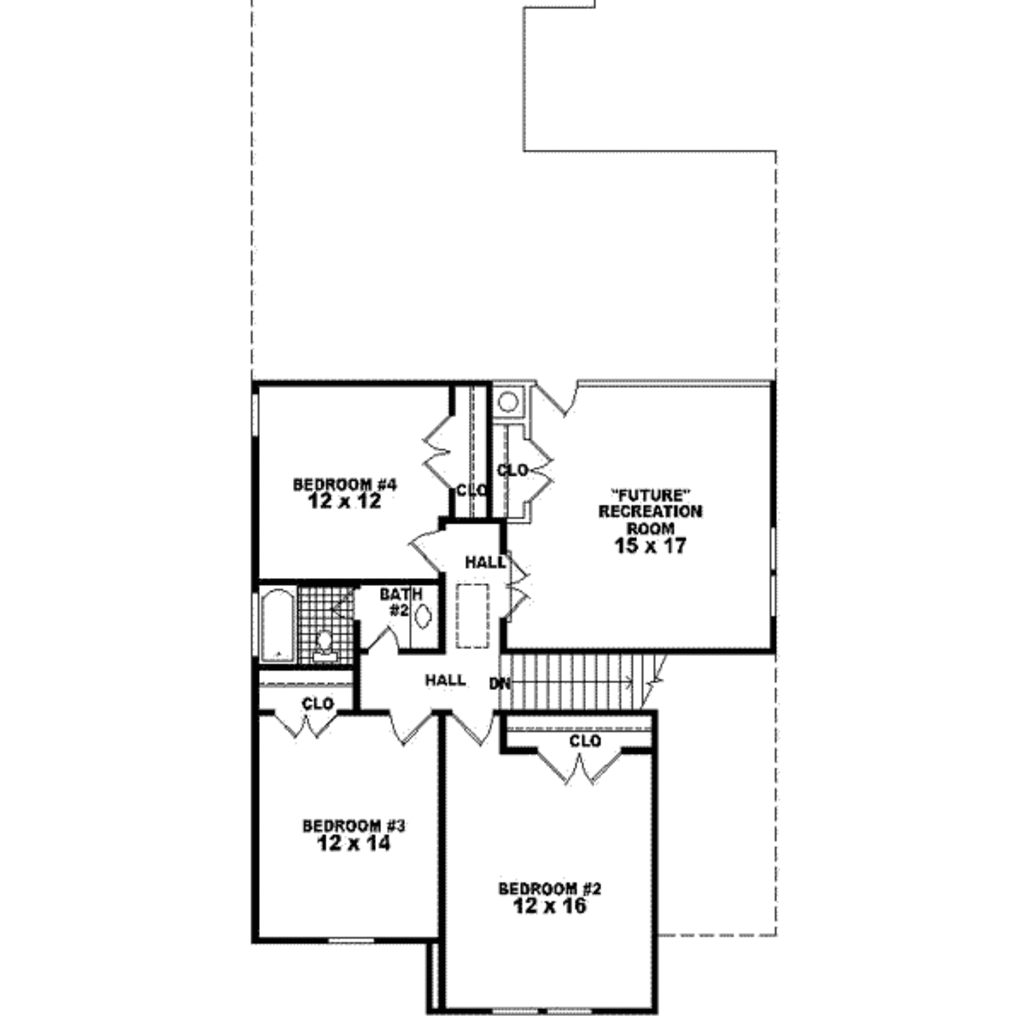door: (531, 742, 627, 788), (422, 410, 463, 494), (516, 430, 555, 513), (406, 518, 453, 573), (532, 377, 592, 420), (502, 544, 531, 626), (446, 705, 497, 748), (271, 707, 339, 739), (384, 710, 430, 746), (363, 623, 405, 657)
large_sink: (313, 623, 345, 670)
small_sink: (410, 588, 443, 653), (495, 386, 529, 423)
stairs: (494, 657, 673, 725)
tub: (258, 587, 299, 666)
window: (488, 1003, 598, 1023), (763, 530, 781, 621), (325, 930, 384, 953), (246, 385, 269, 443)
